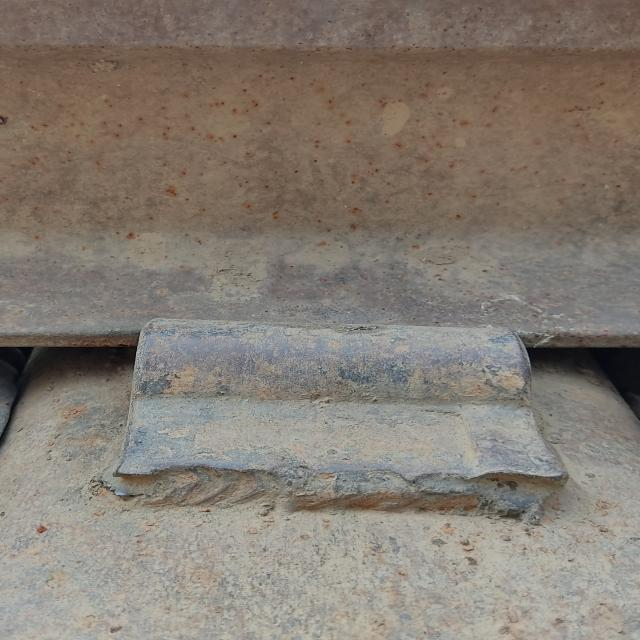track_bolt_missing: (123, 312, 539, 416)
